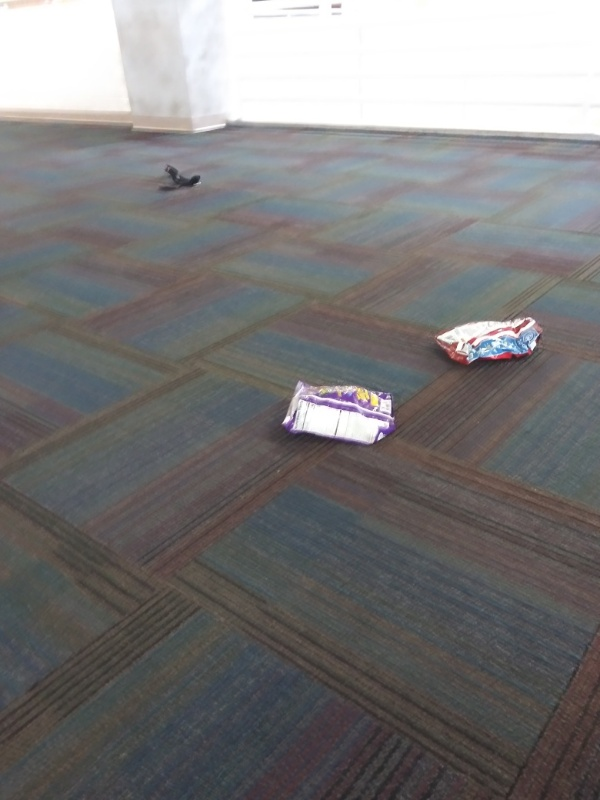bag: (280, 371, 401, 458), (429, 312, 548, 370)
